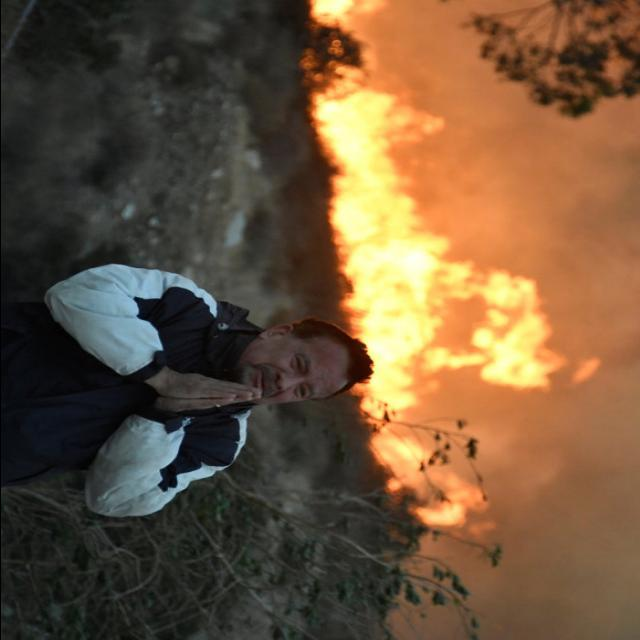Fire: (301, 6, 579, 537)
